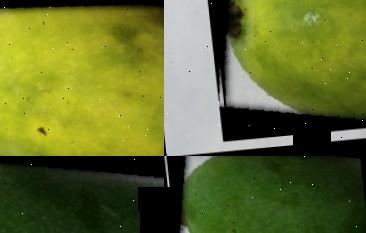PartiallyRipe: (0, 0, 164, 156), (205, 0, 366, 133)
Unripe: (168, 156, 366, 233), (0, 156, 164, 233)
